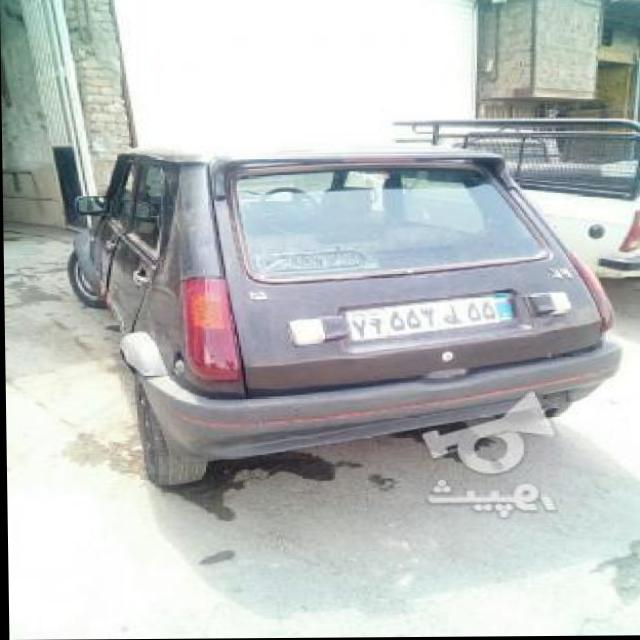licence: (348, 288, 517, 344)
